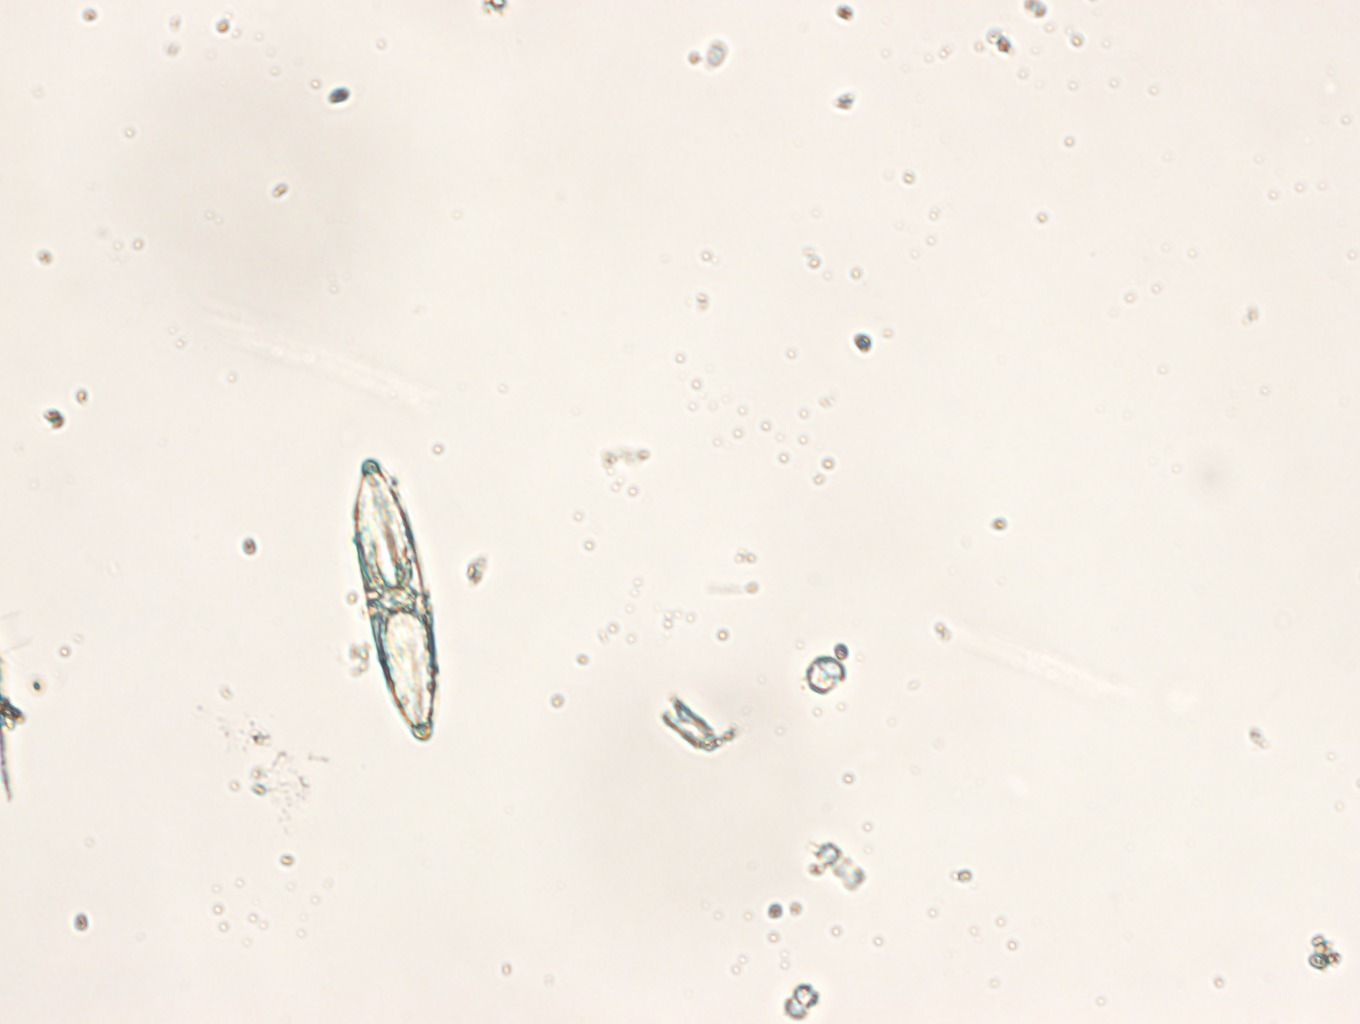navicula: (353, 455, 436, 741)
